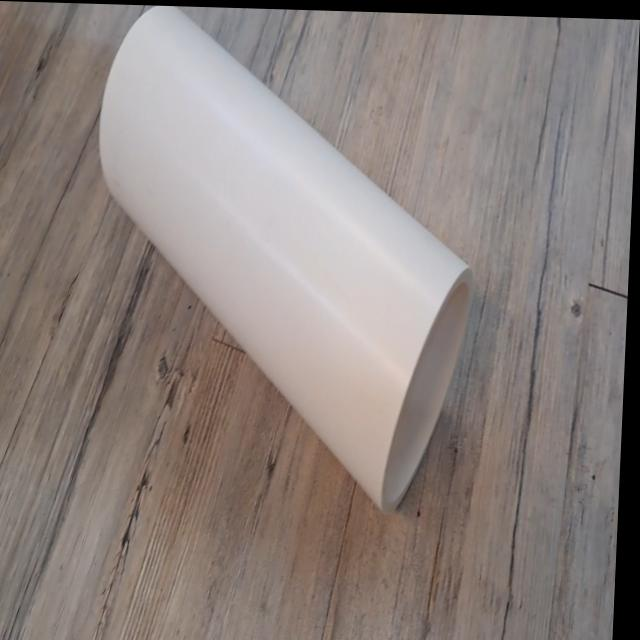CORAL: (63, 9, 494, 515)
